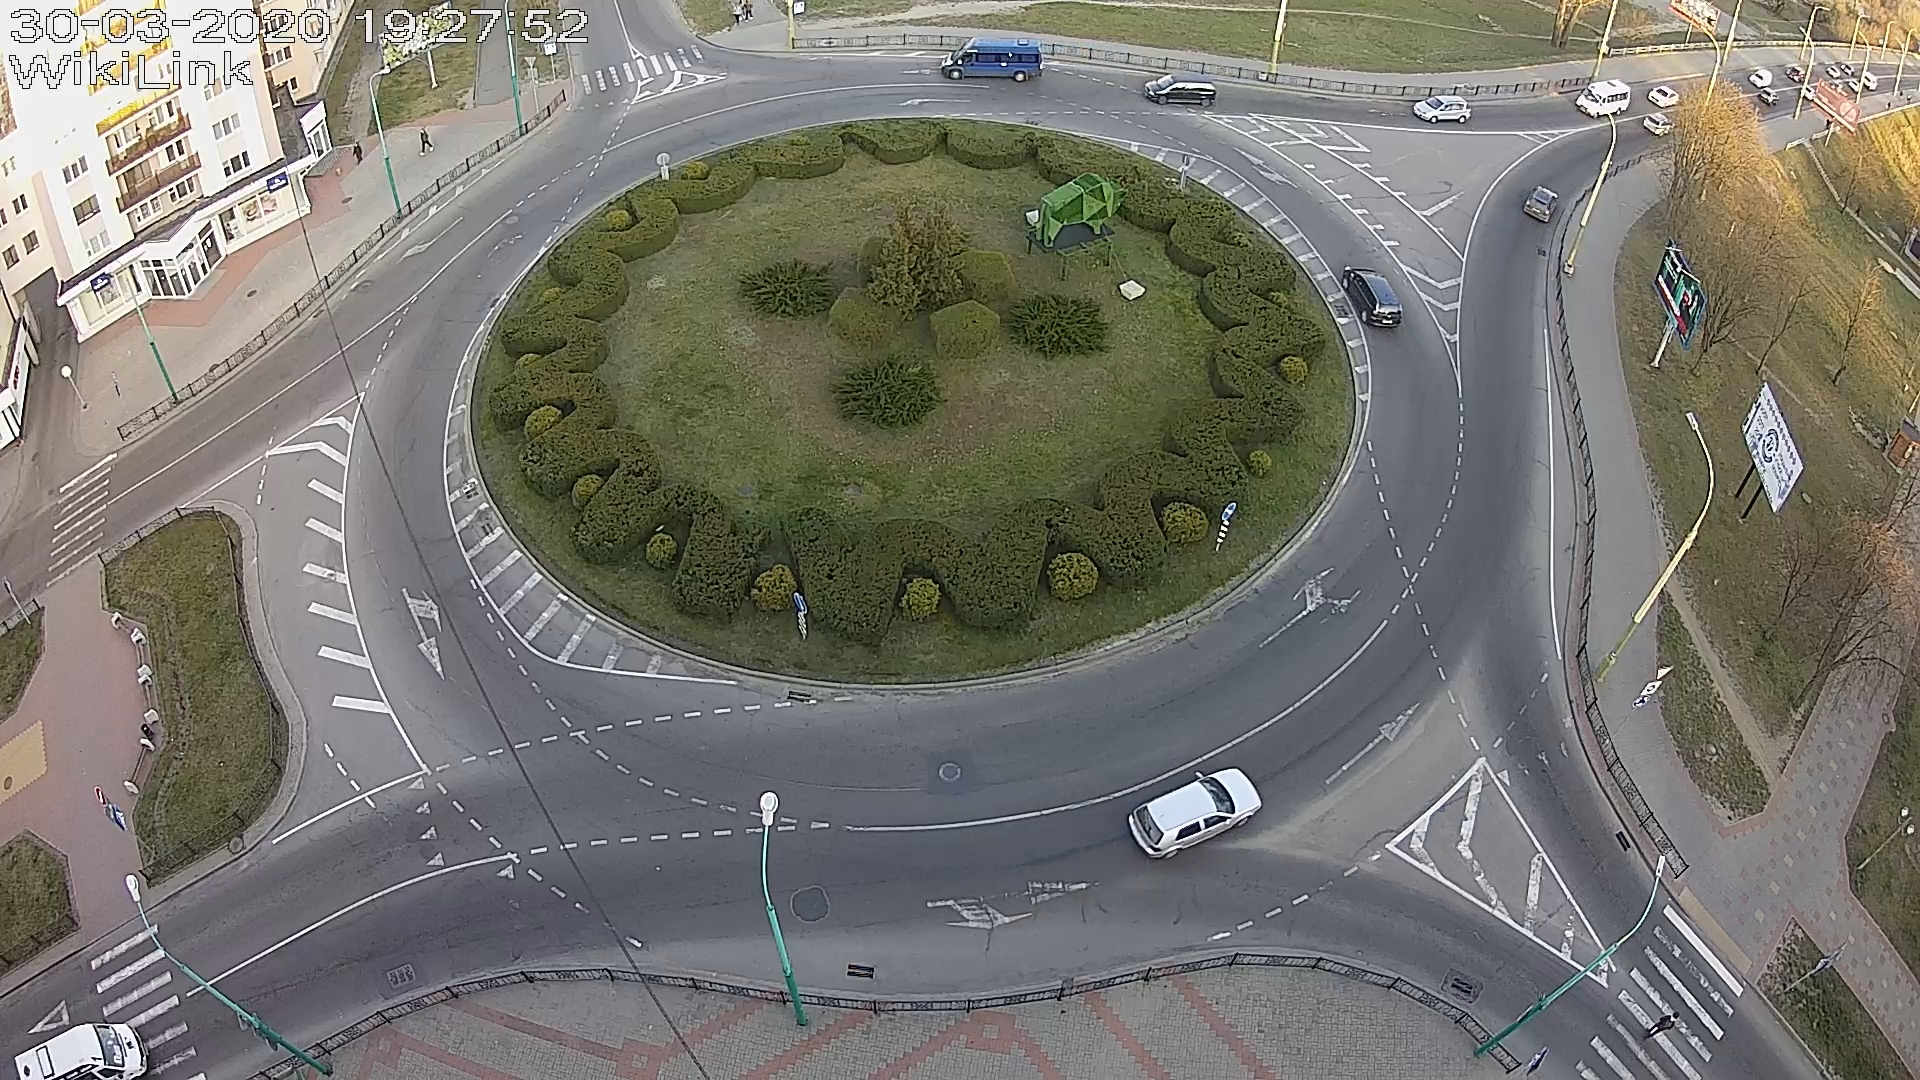car: (1127, 767, 1263, 861), (12, 1022, 150, 1080), (940, 36, 1044, 82), (1341, 265, 1404, 328), (1145, 73, 1217, 107), (1575, 79, 1631, 119), (1412, 95, 1472, 124), (1523, 185, 1560, 223), (1646, 84, 1680, 108), (1643, 112, 1675, 137)
